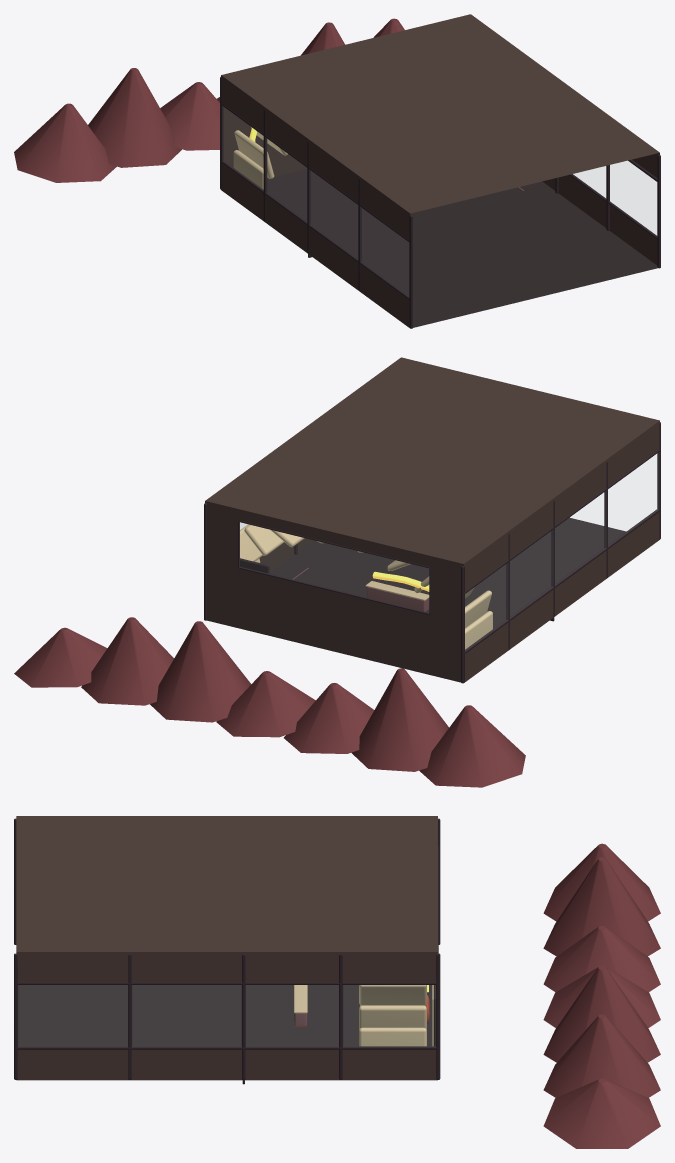
The model's file is garage.glb.
The picture shows the model from 3 angles, top to bottom: view 1: azimuth 30°, elevation 25°; view 2: azimuth 150°, elevation 25°; view 3: azimuth 270°, elevation 25°; orthographic projection. The views are drawn at different scales.
Visible parts, largest first — view 1: Roof panels - Wall, Floor extension - Floor, Outside the glazing - Glass rim, Port wall - Wall, Floor - Floor, Port wall - Rib, Starboard wall - Wall, Rear bulkhead - Wall, Signature architecture - Pale, Starboard wall - Rib; view 2: Roof panels - Wall, Outside the glazing - Glass rim, Rear bulkhead - Wall, Port wall - Wall, Floor extension - Floor, Port wall - Rib, Floor - Floor, Signature architecture - Pale, Rear bulkhead - Rib, Counter - Secondary, Starboard wall - Wall; view 3: Roof panels - Wall, Outside the glazing - Glass rim, Starboard wall - Wall, Floor extension - Floor, Floor - Floor, Starboard wall - Rib, Signature architecture - Pale, Port wall - Rib.
Boxes of the visible parts, x1,y1,x2,y2 form: Roof panels - Wall: (221,14,659,213); Floor extension - Floor: (341,193,657,327); Outside the glazing - Glass rim: (14,18,404,182); Port wall - Wall: (221,75,410,327); Floor - Floor: (267,169,555,245); Port wall - Rib: (220,77,412,328); Starboard wall - Wall: (542,153,659,265); Rear bulkhead - Wall: (223,107,307,178); Signature architecture - Pale: (233,127,287,189); Starboard wall - Rib: (555,154,660,268); Roof panels - Wall: (205,357,659,563); Outside the glazing - Glass rim: (14,617,525,787); Rear bulkhead - Wall: (205,501,463,682); Port wall - Wall: (464,421,659,682); Floor extension - Floor: (297,517,626,608); Port wall - Rib: (461,422,660,683); Floor - Floor: (269,554,519,628); Signature architecture - Pale: (240,524,492,649); Rear bulkhead - Rib: (238,520,430,614); Counter - Secondary: (366,587,429,611); Starboard wall - Wall: (259,538,313,572); Roof panels - Wall: (16,816,437,951); Outside the glazing - Glass rim: (543,843,660,1148); Starboard wall - Wall: (16,952,437,1080); Floor extension - Floor: (18,985,241,1046); Floor - Floor: (246,985,431,1046); Starboard wall - Rib: (14,953,440,1079); Signature architecture - Pale: (359,985,433,1046); Port wall - Rib: (14,818,440,944).
Size of the model in its own units: 36.79 by 9.43 by 38.64.
